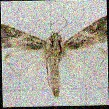Spodoptera litura: (1, 4, 108, 98)
